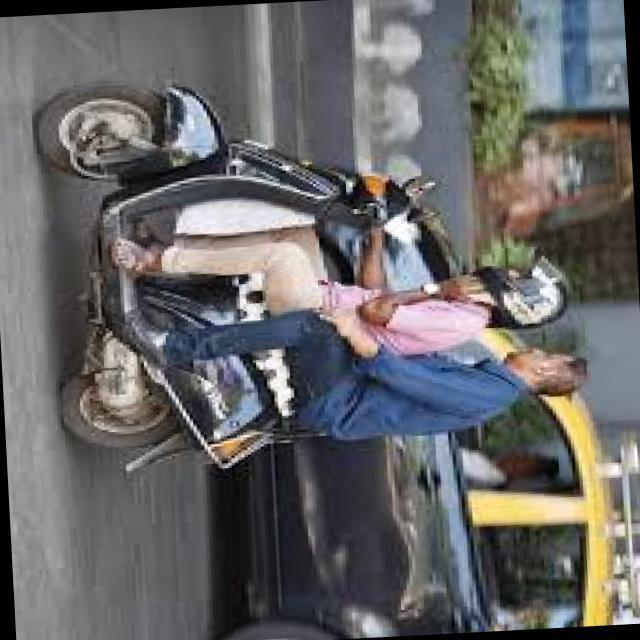USING_MOBILE: (356, 270, 502, 324)
